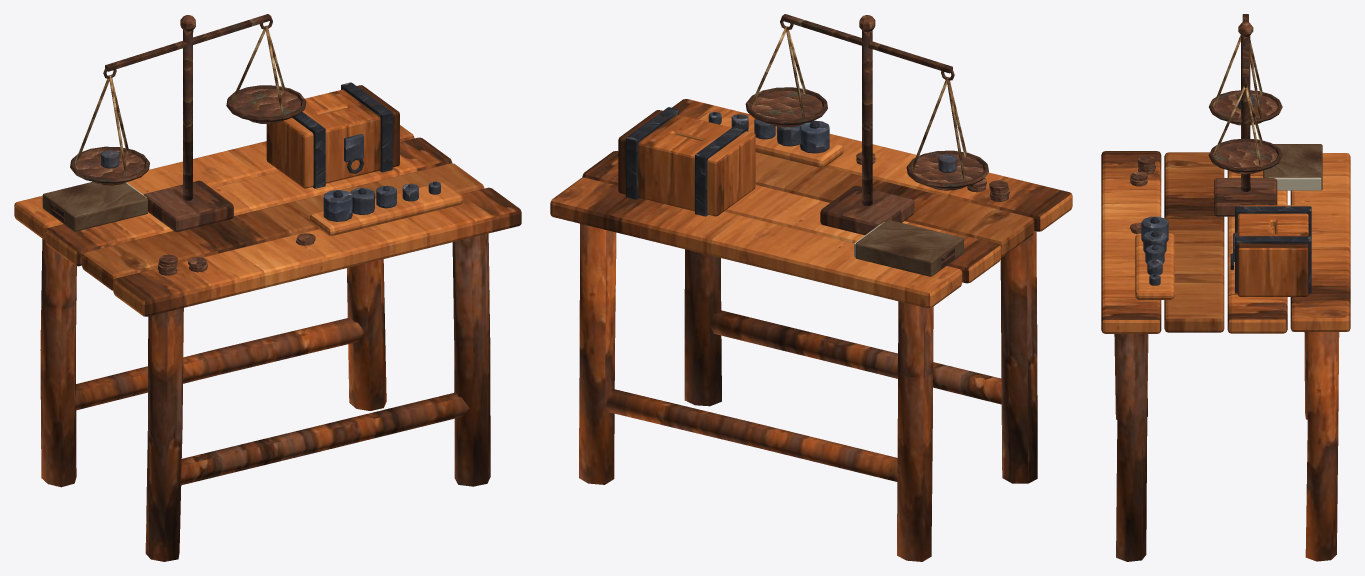
File: mg_toll_table.glb
The picture shows the model from 3 angles, left to right: view 1: azimuth 30°, elevation 25°; view 2: azimuth 150°, elevation 25°; view 3: azimuth 270°, elevation 25°; orthographic projection. The views are drawn at different scales.
Parts seen in each view (by area): view 1: model; view 2: model; view 3: model.
Boxes of the visible parts, x1,y1,x2,y2 form: model: [14, 14, 521, 561]; model: [550, 14, 1072, 561]; model: [1101, 14, 1350, 561].
Size of the model in its own units: 1.02 by 1.21 by 0.632.
16 materials, 15 textured.
